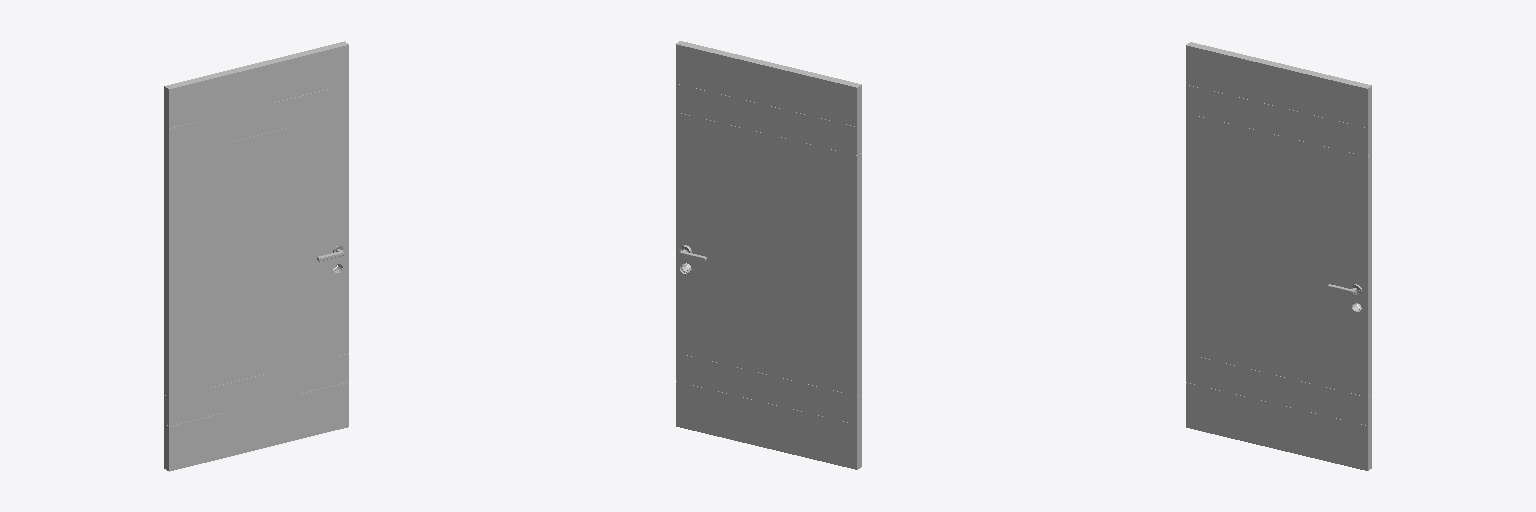
File: door.obj
3 renders of one model, left to right at view 1: azimuth 30°, elevation 25°; view 2: azimuth 150°, elevation 25°; view 3: azimuth 330°, elevation 25°, orthographic.
Visible parts, largest first — view 1: Box01; view 2: Box01; view 3: Box01.
Boxes of the visible parts, <box> form: Box01: <box>164,41,348,471</box>; Box01: <box>676,41,861,469</box>; Box01: <box>1186,42,1371,470</box>.
Size of the model in its own units: 0.9596 by 1.93 by 0.1412.